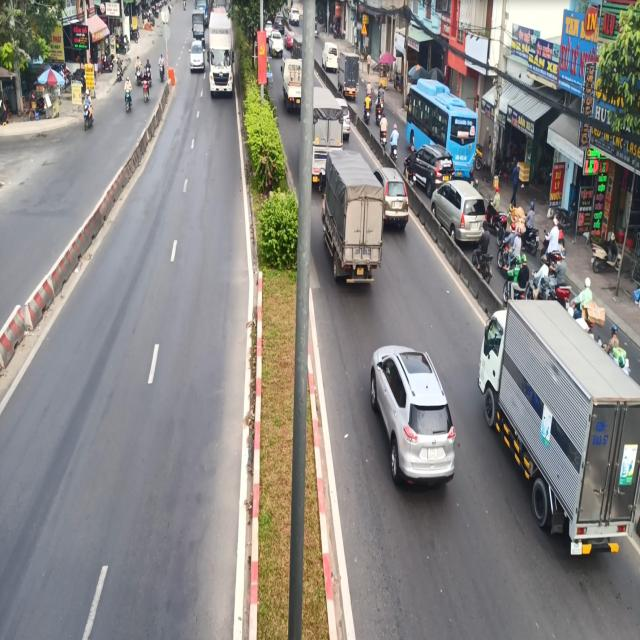car: (368, 328, 462, 500)
truck: (477, 288, 640, 570), (320, 154, 388, 293)
